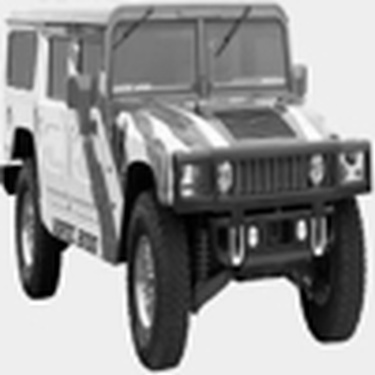car: (1, 12, 373, 365)
